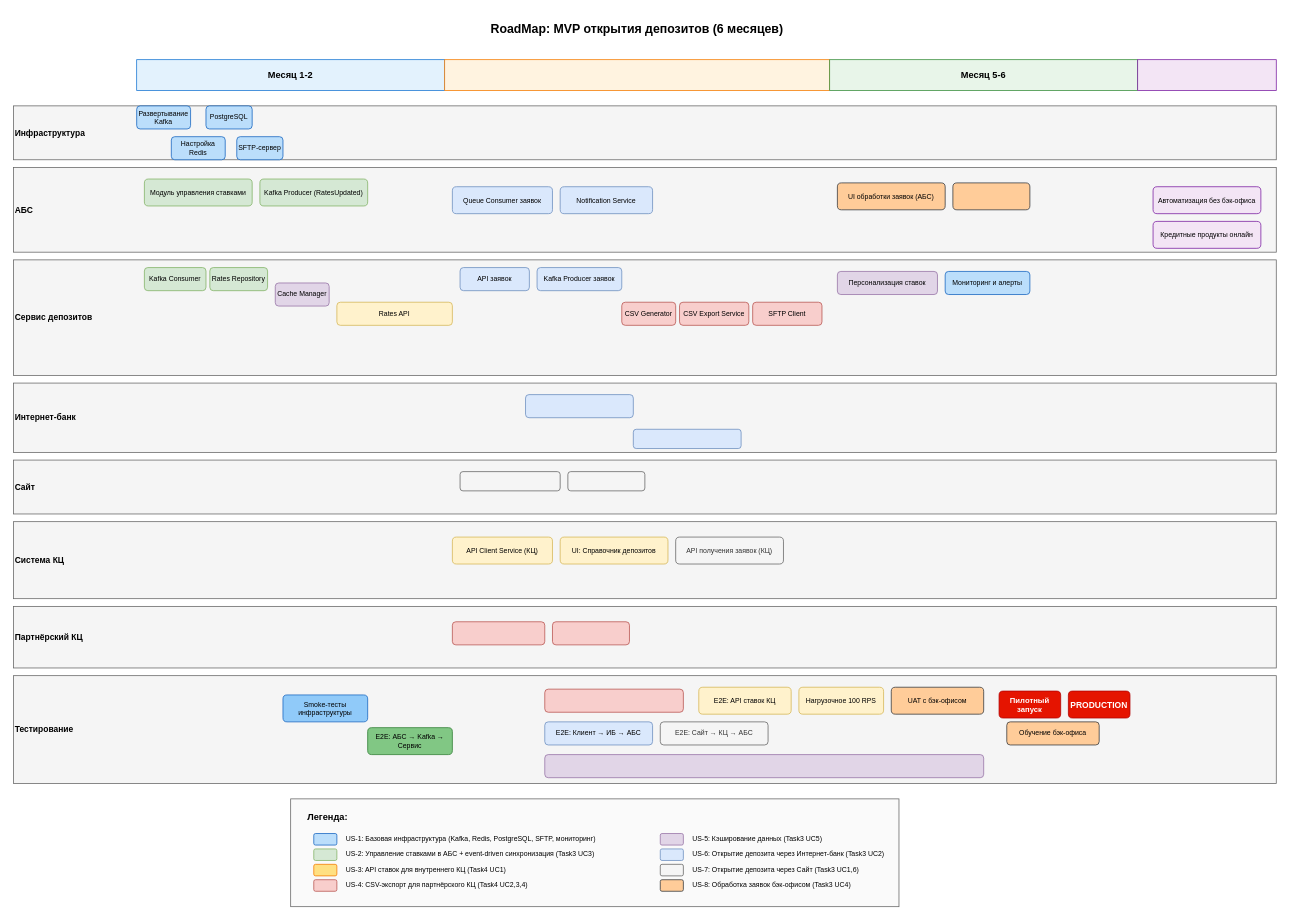
This 1290x920 diagram has some shape labels left out. The centre of each missing label's shape, as x and y in pixels:
"E2E: CSV → SFTP" belongs at (613,700).
"SFTP-клиент партнёра" belongs at (498,633).
"UI: Раздел депозитов (ИБ)" belongs at (579,406).
"UI: Список депозитов (Сайт)" belongs at (509,481).
"Год+" belongs at (1206,74).
"Импорт CSV" belongs at (590,633).
"Месяц 3-4" belongs at (637,74).
"Расчет рисков" belongs at (991,196).
"СМС-подтверждение" belongs at (687,439).
"Тесты производительности" belongs at (764,766).
"Форма заявки" belongs at (606,481).
